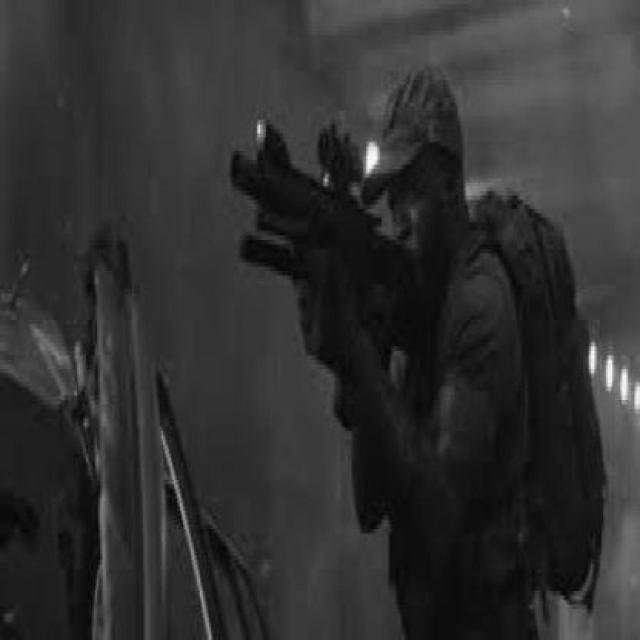weapon: (230, 114, 428, 348)
